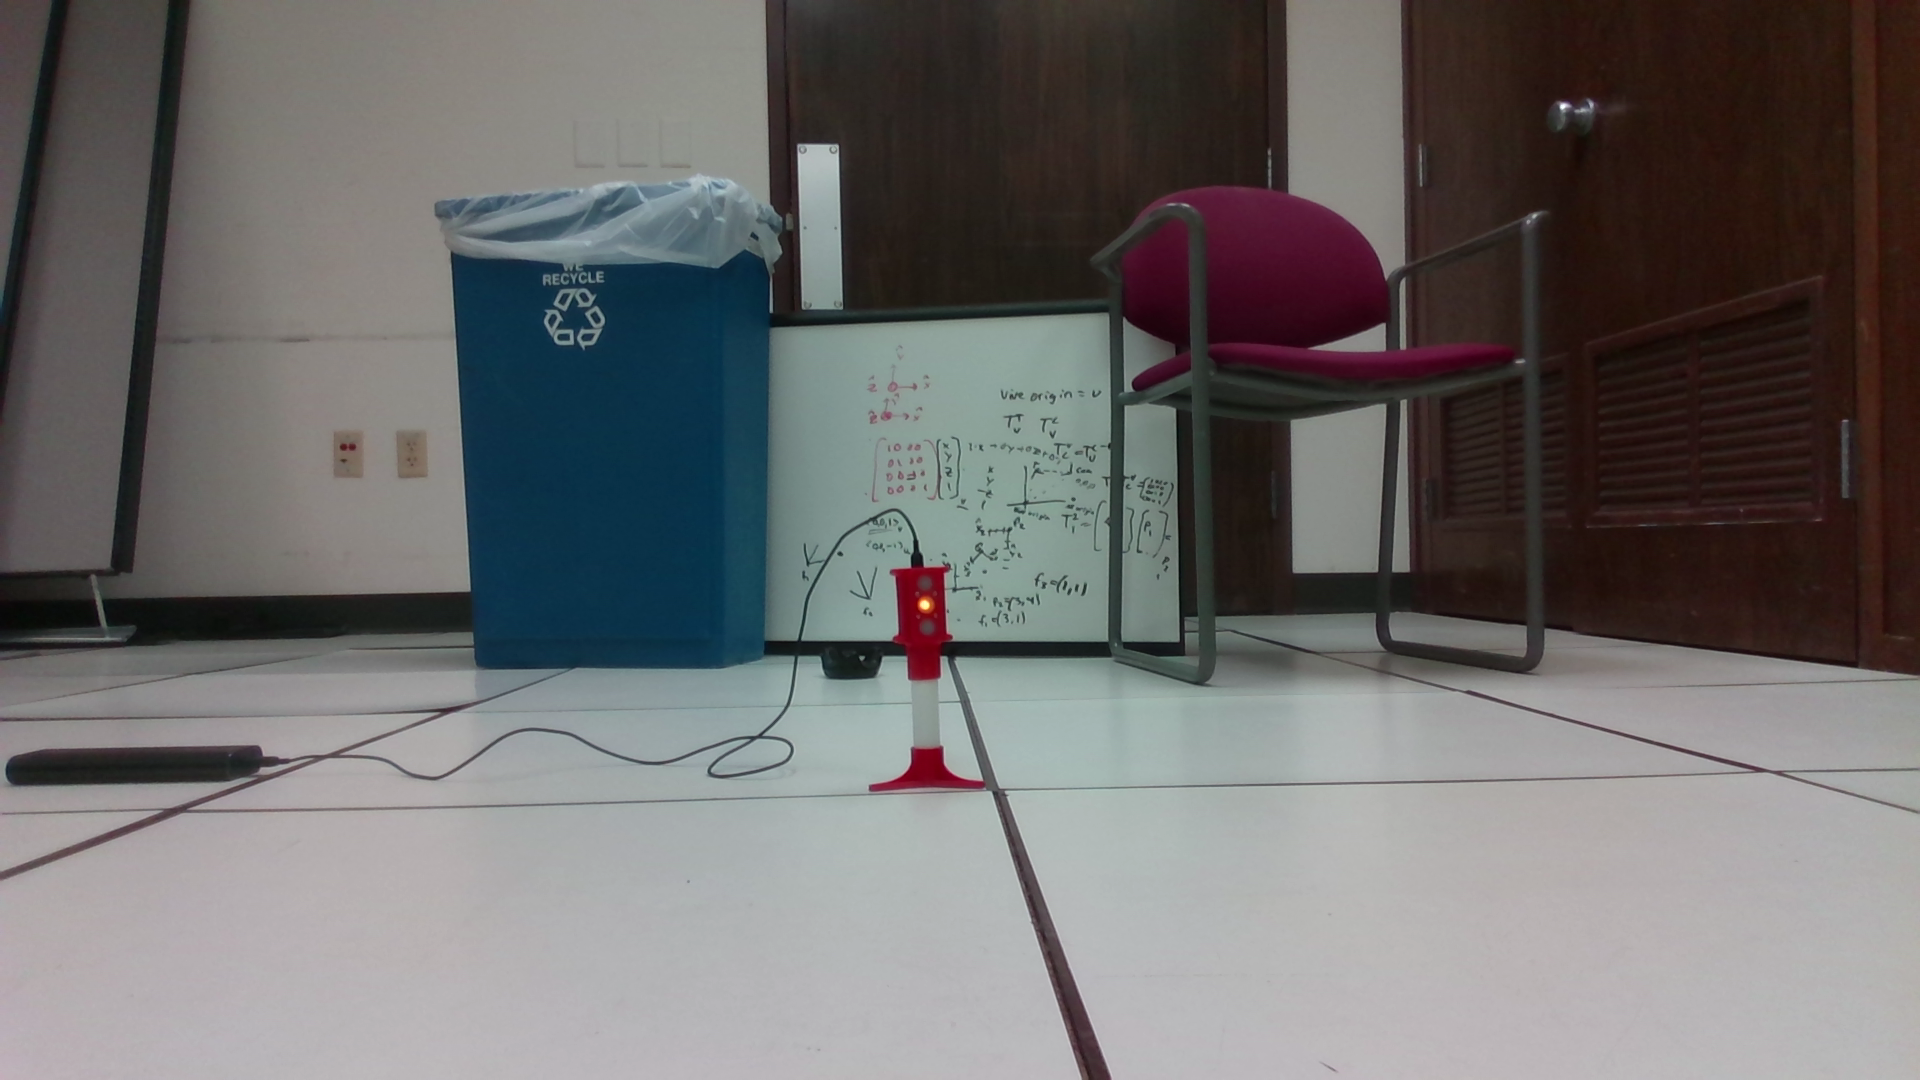stoplight: (891, 568, 952, 680)
